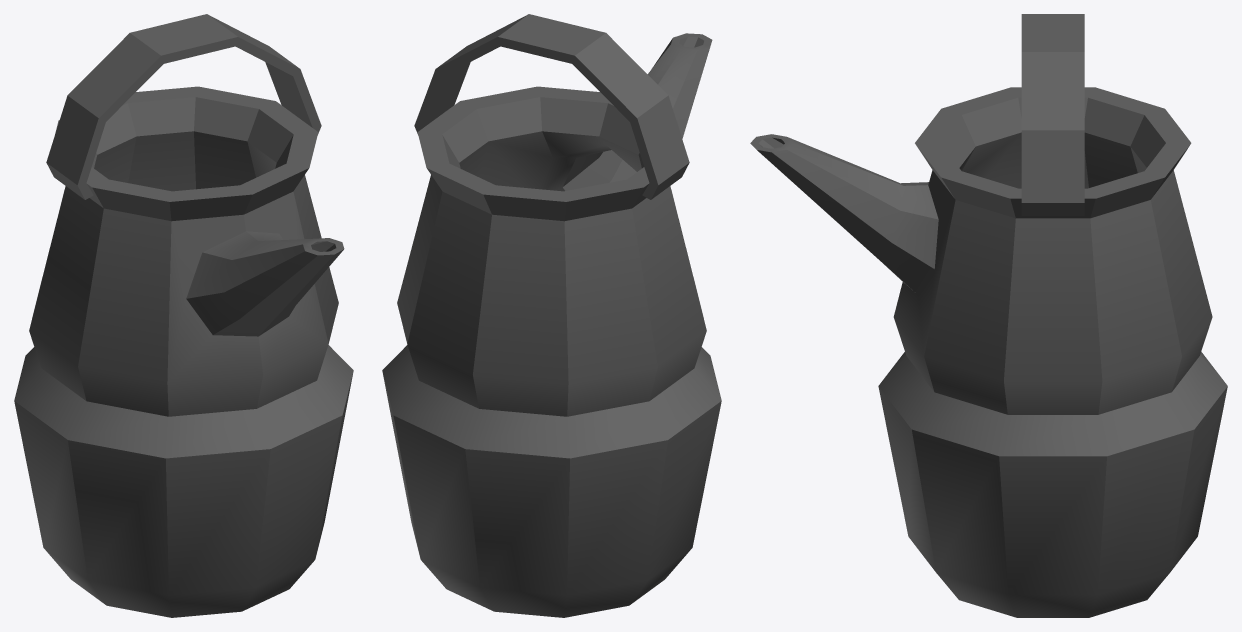
Rendered from EA_Items_House_kettle_empty_01a.glb.
3 views of the same model, side by side, from view 1: azimuth 30°, elevation 25°; view 2: azimuth 150°, elevation 25°; view 3: azimuth 270°, elevation 25° (orthographic).
Visible parts, largest first — view 1: EA_Items_House_kettle_empty_01a; view 2: EA_Items_House_kettle_empty_01a; view 3: EA_Items_House_kettle_empty_01a.
Part boxes in pixels (left/top/right/bottom): EA_Items_House_kettle_empty_01a: left=14, top=14, right=353, bottom=617; EA_Items_House_kettle_empty_01a: left=382, top=14, right=721, bottom=617; EA_Items_House_kettle_empty_01a: left=750, top=14, right=1227, bottom=617.
Bounding box in the file's own units: 0.2464 × 0.4403 × 0.3542.
Materials: 1 (1 with a texture image).
